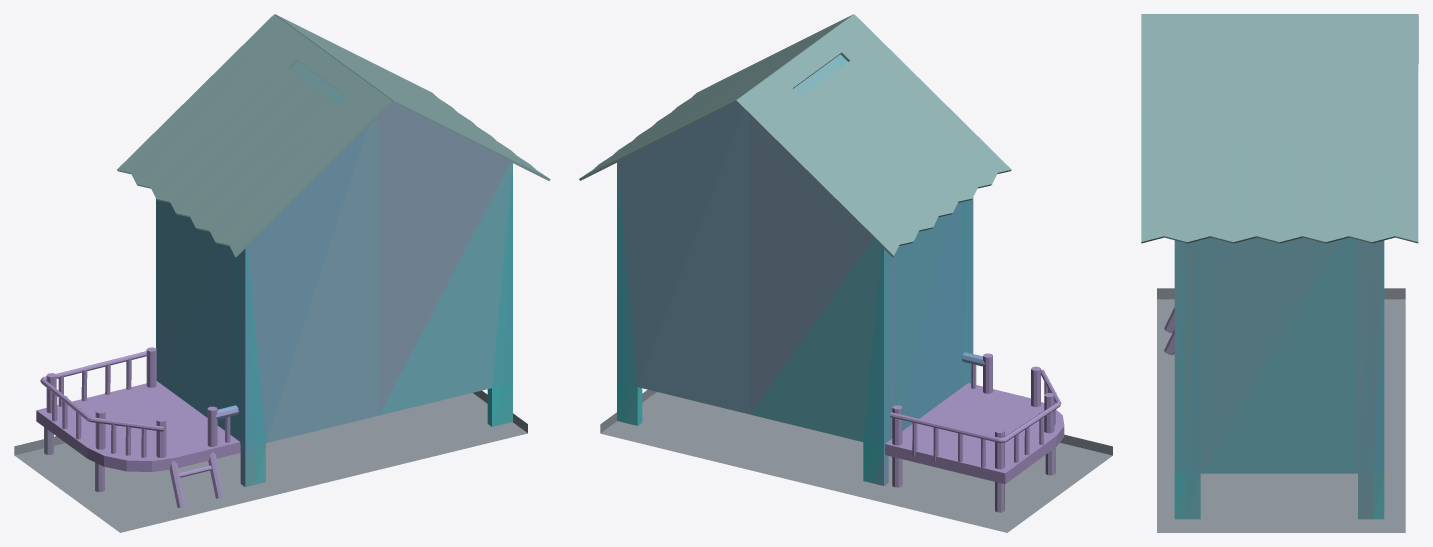
3 views of the same model, side by side, from view 1: azimuth 30°, elevation 25°; view 2: azimuth 150°, elevation 25°; view 3: azimuth 270°, elevation 25° (orthographic). The views are drawn at different scales.
Parts seen in each view (by area): view 1: world; view 2: world; view 3: world.
Part boxes in pixels (box(x1,y1,x2,y2)): world: box(14, 14, 550, 532); world: box(579, 14, 1112, 532); world: box(1141, 14, 1418, 532).
Bounding box in the file's own units: 1 × 0.8404 × 0.4831.
